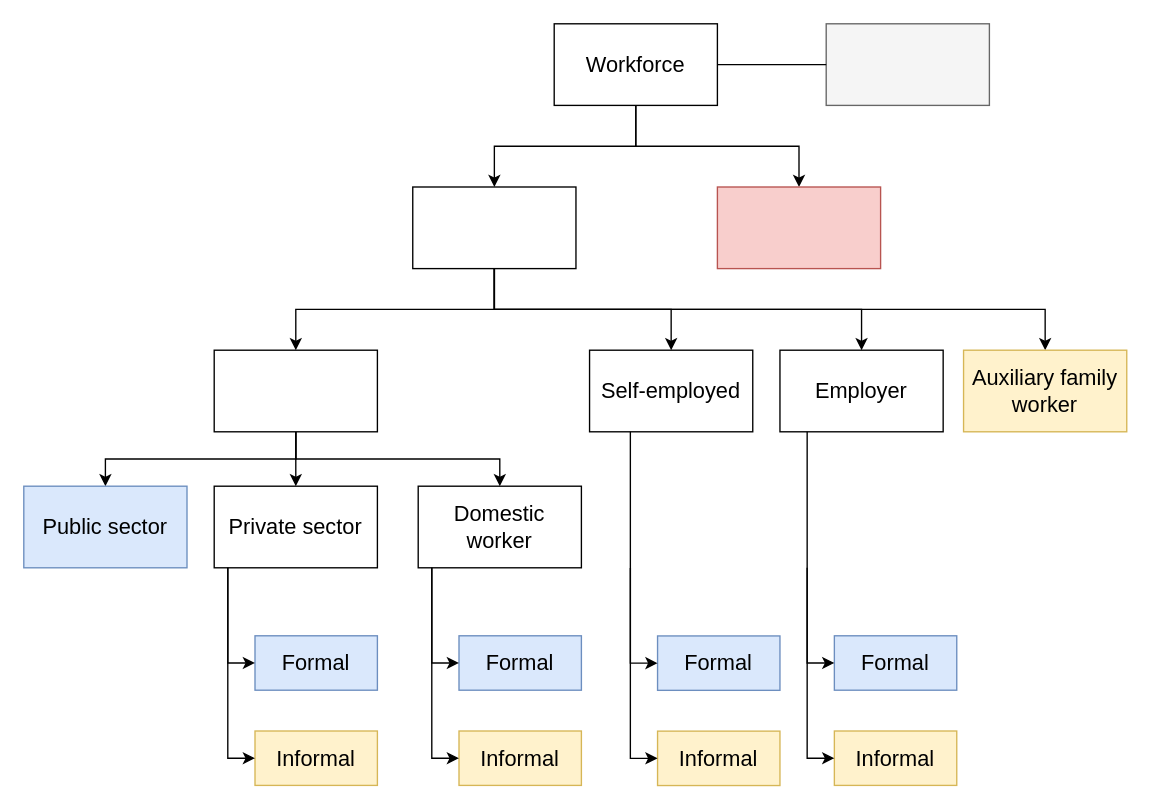
This 1151x811 diagram has some shape labels left out. The box of each missing label's shape, as (x1, y1, x2, y2) in pixels:
Employed: (213, 349, 377, 432)
Occupied: (411, 186, 576, 269)
Outside of the workforce: (825, 22, 989, 105)
Unoccupied: (716, 186, 881, 269)
